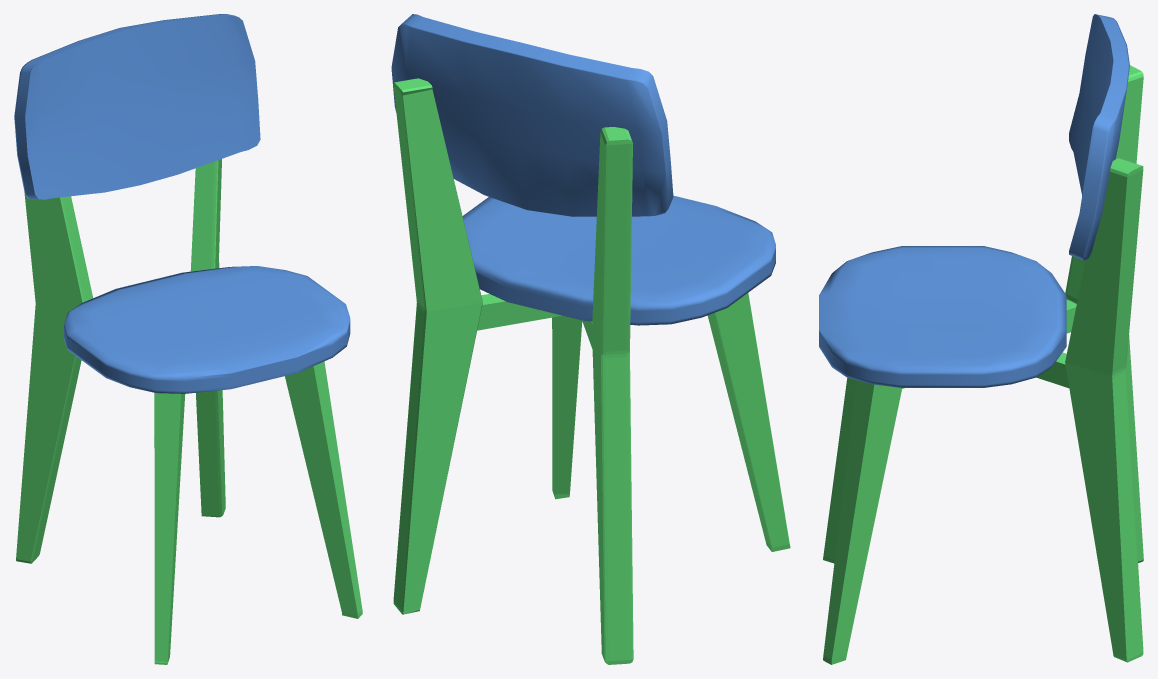
File: chair.fbx
3 renders of one model, left to right at view 1: azimuth 30°, elevation 25°; view 2: azimuth 150°, elevation 25°; view 3: azimuth 270°, elevation 25°, orthographic. The views are drawn at different scales.
Visible parts, largest first — view 1: chair; view 2: chair; view 3: chair.
Boxes of the visible parts, left/top/right/bottom form: chair: left=14, top=14, right=362, bottom=664; chair: left=391, top=14, right=790, bottom=664; chair: left=819, top=14, right=1143, bottom=664.
Bounding box in the file's own units: 49.77 × 102 × 54.5.
